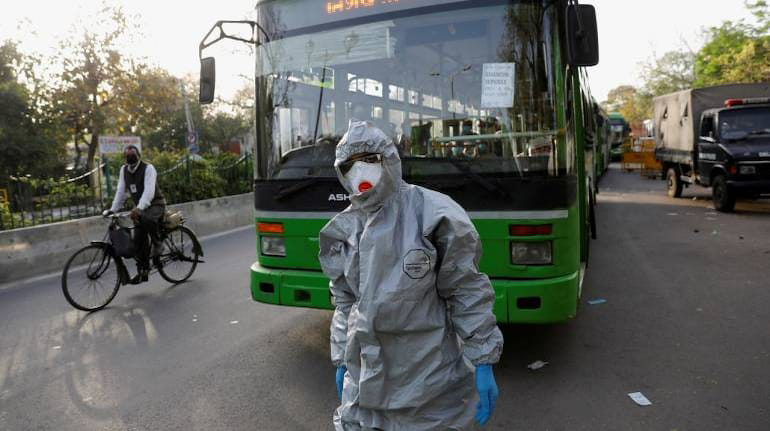Coverall: (318, 127, 504, 428)
Gloves: (471, 365, 499, 425), (334, 365, 346, 399)
Goggles: (336, 155, 385, 169)
with_mask: (343, 157, 381, 196)
